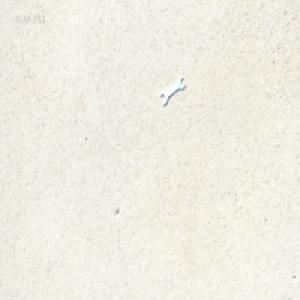Wrench: (160, 77, 184, 105)
